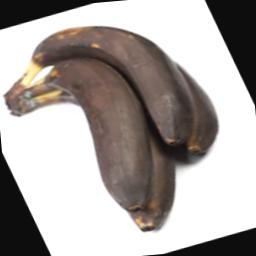Banana Rotten: (0, 0, 244, 255)
